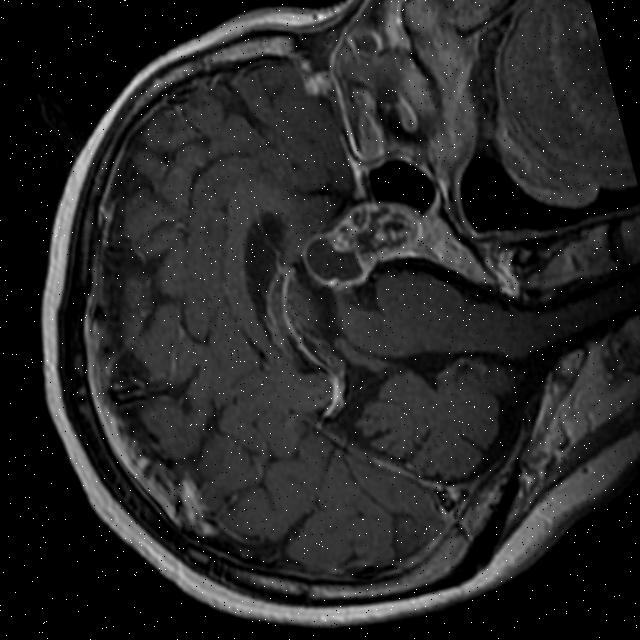Pituitary: (290, 190, 434, 295)
